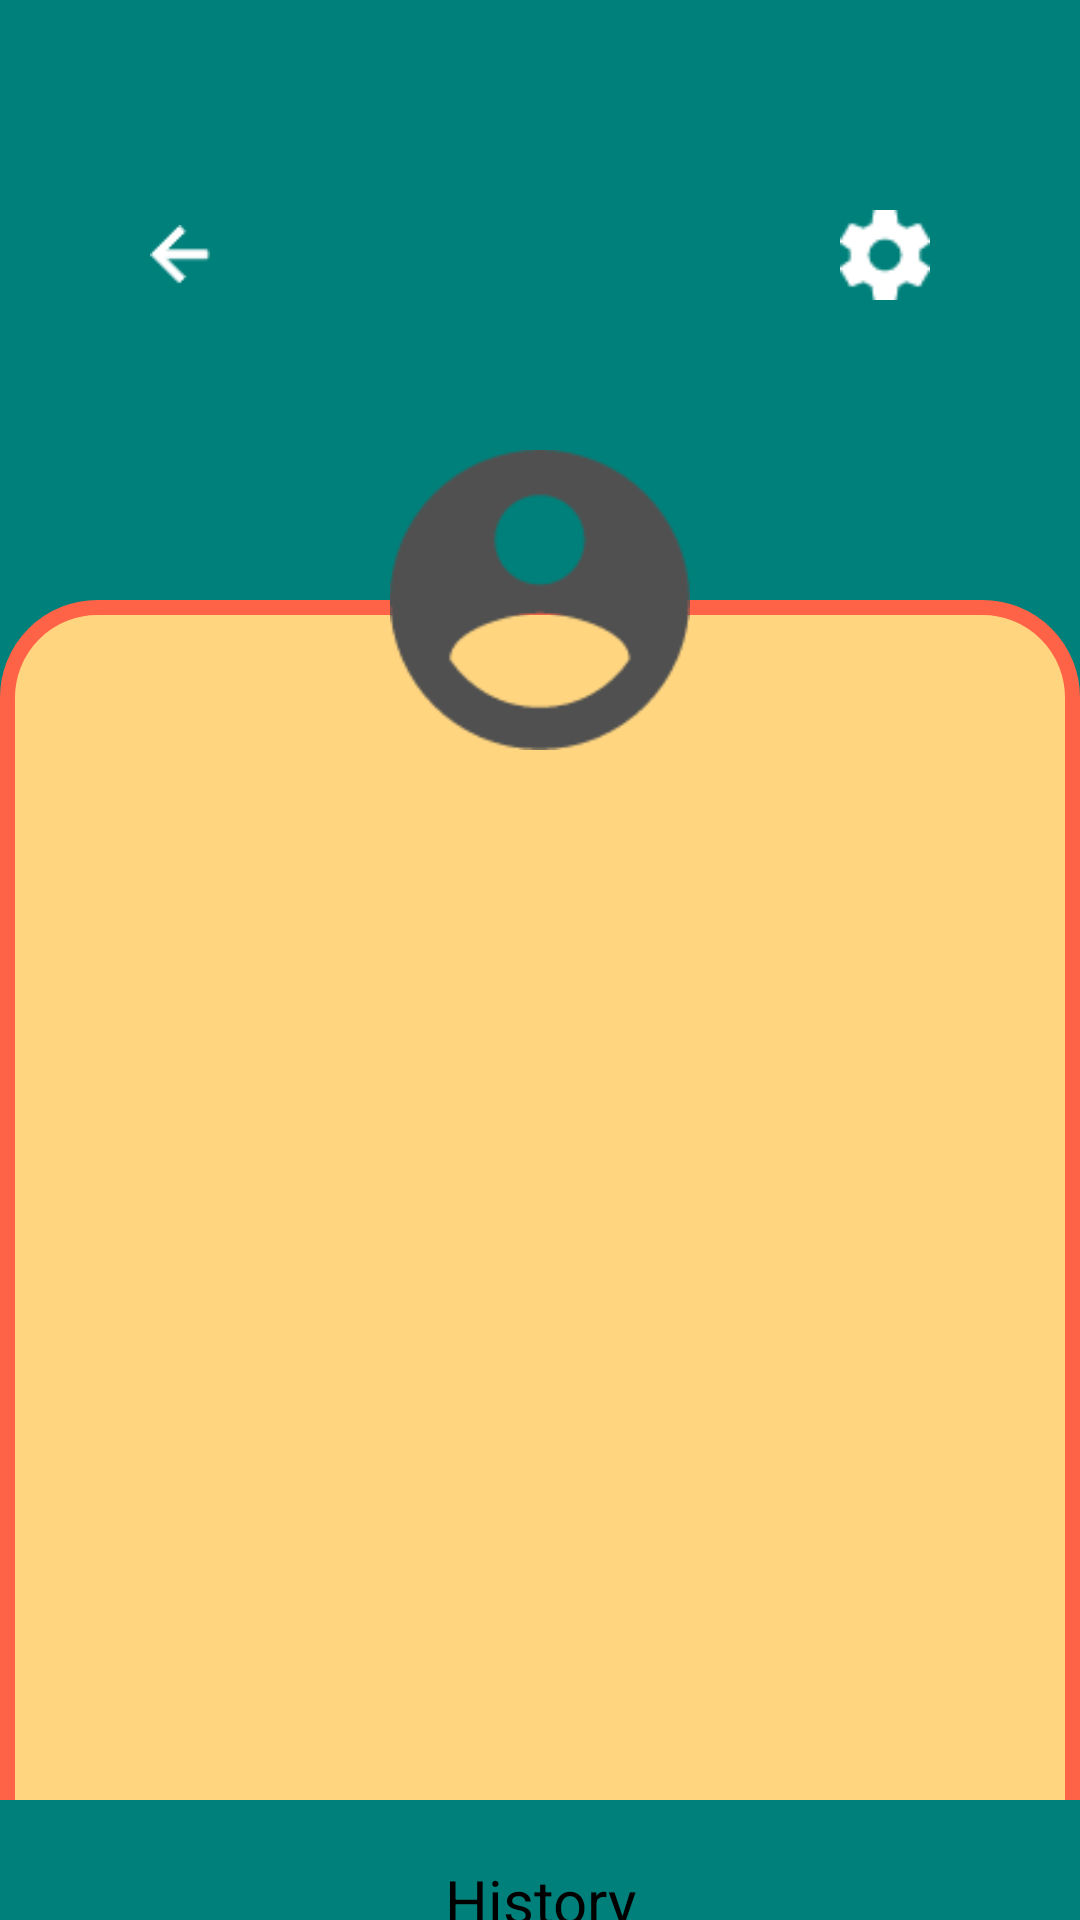

Where to tap for icons on this 1080px×1920px app screen, as (x,y):
arrow back: (180,254)
profile: (540,600)
settings: (885,255)
